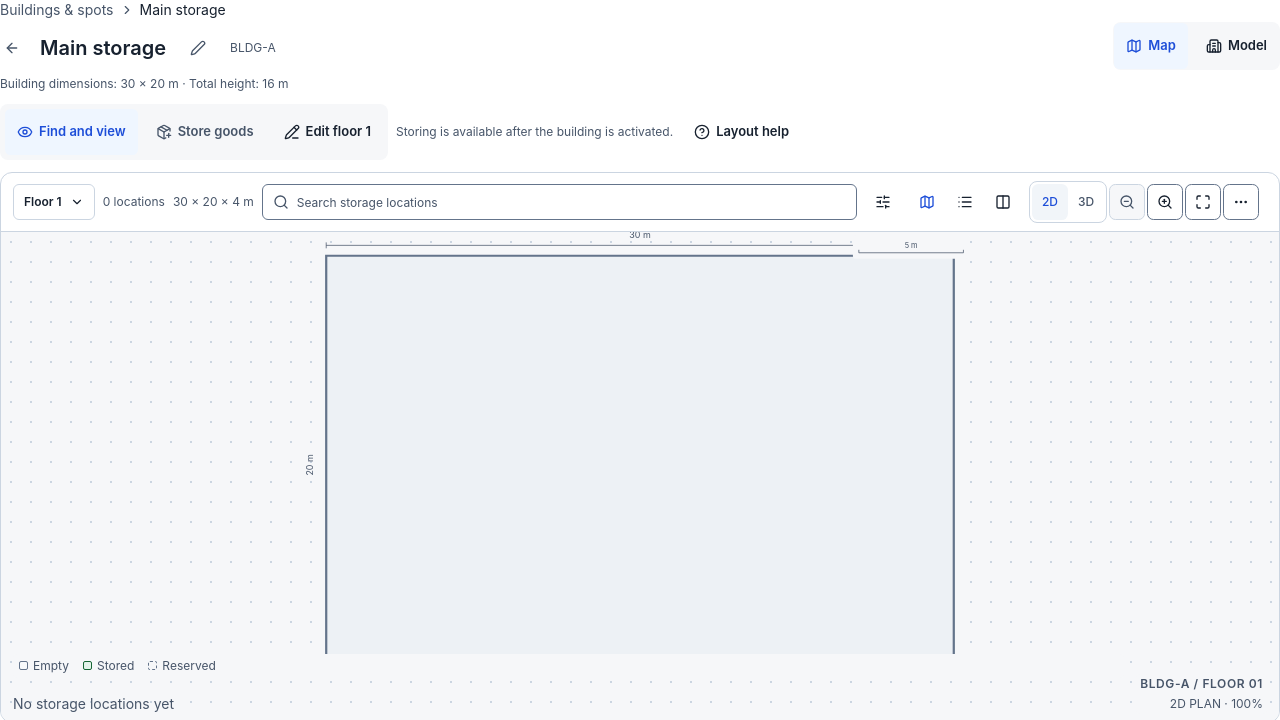
Test: BuildingModelWorkspace › puts the one building edit pen after the name and before the code
Expected: the text "BLDG-A" is shown, [230, 40, 276, 56]
Click the button named "Edit building settings": [198, 48] box [174, 24, 222, 72]
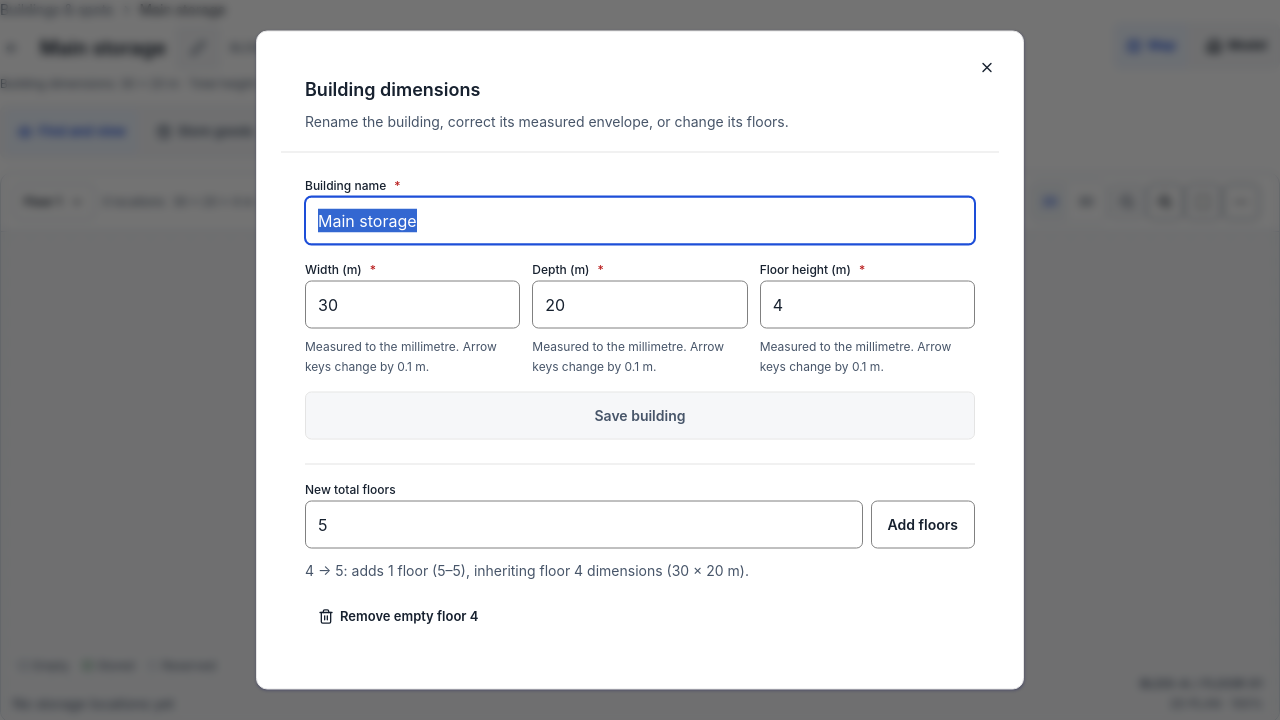
Expected: the dialog "Building dimensions" is shown, [256, 30, 1024, 690]
